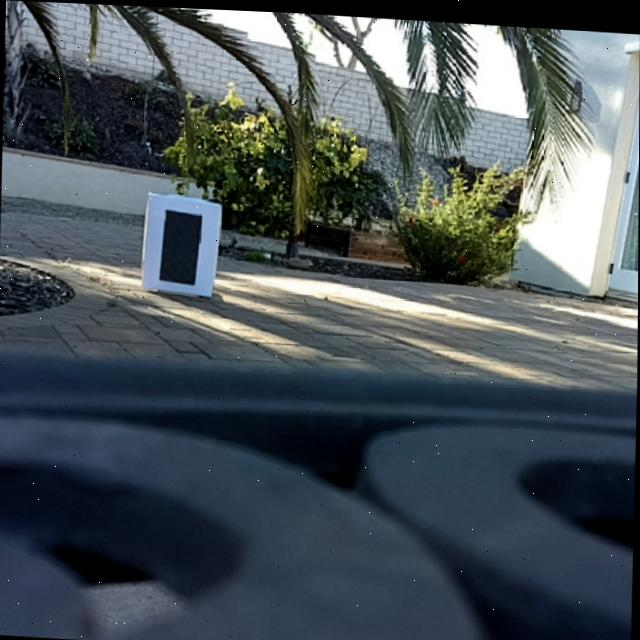led: (160, 207, 201, 284)
